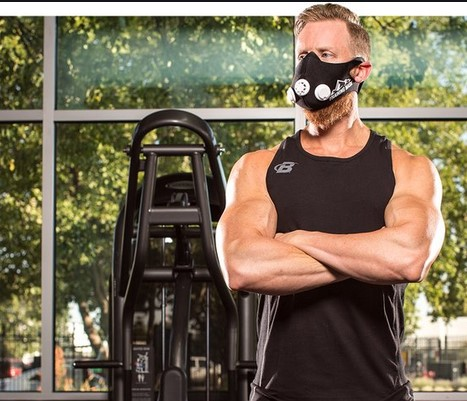face_with_mask: (286, 8, 373, 115)
